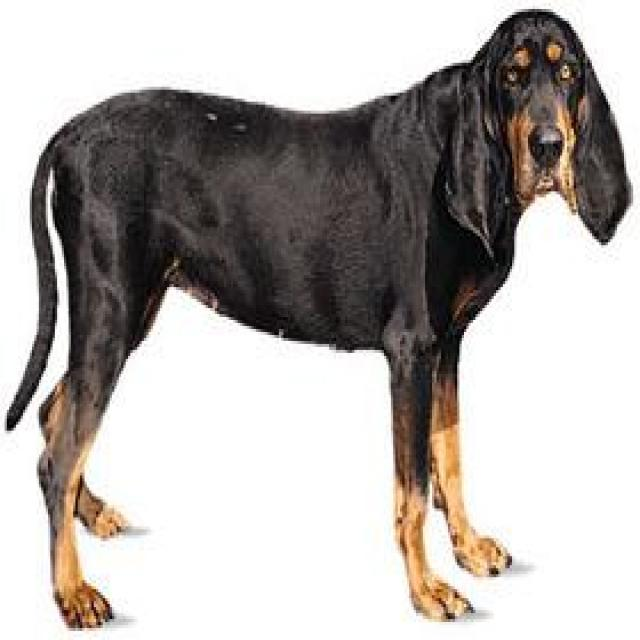good: (15, 5, 628, 624)
